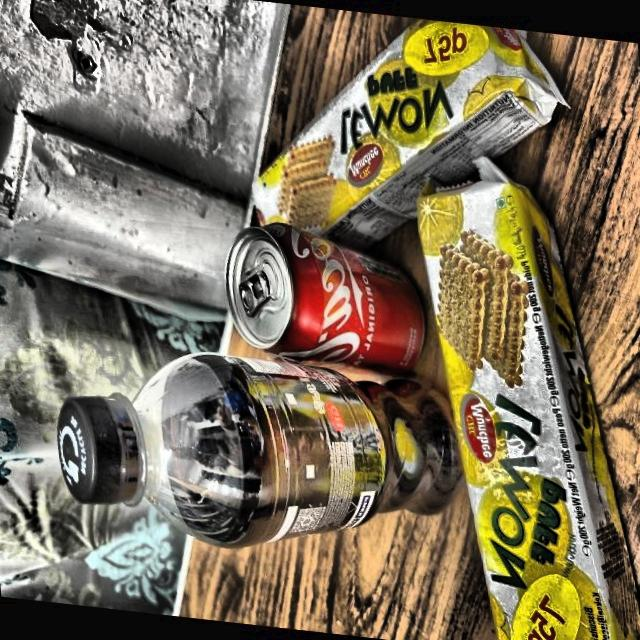coke-can: (226, 228, 427, 382)
lemon puff: (414, 168, 640, 640), (250, 23, 552, 220)
pepsi-bottle: (47, 363, 467, 530)
